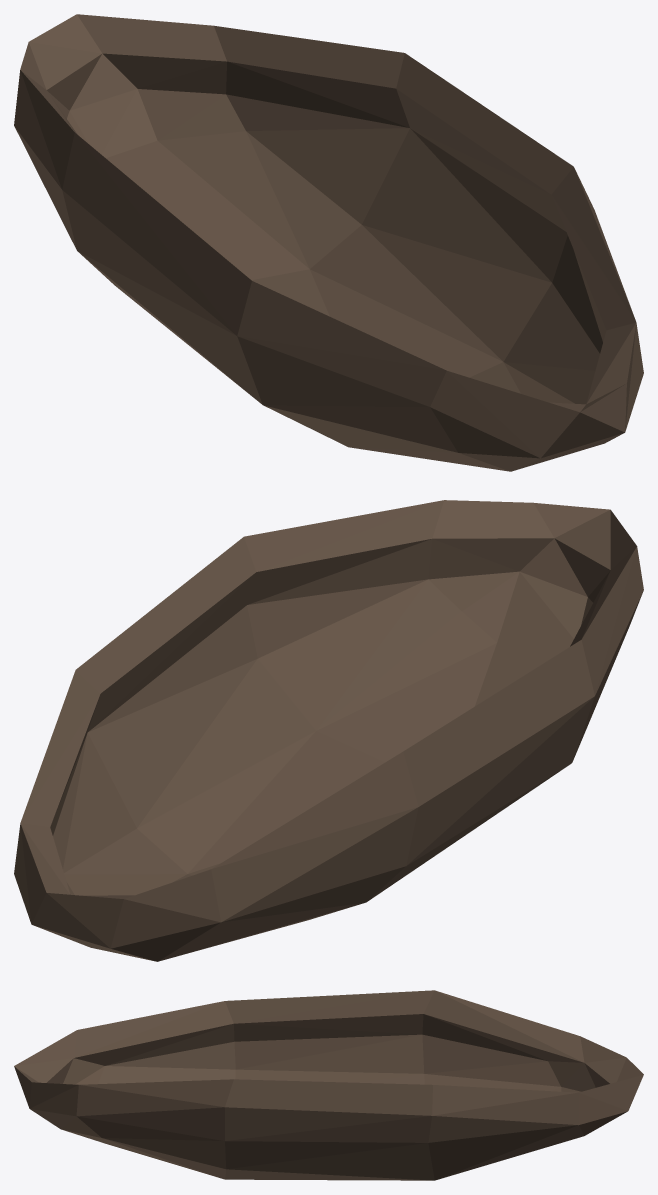
File: coolamon.glb
The picture shows the model from 3 angles, top to bottom: view 1: azimuth 30°, elevation 25°; view 2: azimuth 150°, elevation 25°; view 3: azimuth 270°, elevation 25°; orthographic projection. The views are drawn at different scales.
Parts seen in each view (by area): view 1: Coolamon; view 2: Coolamon; view 3: Coolamon.
Part boxes in pixels (x1=…): Coolamon: x1=14, y1=14, x2=643, y2=471; Coolamon: x1=14, y1=500, x2=643, y2=961; Coolamon: x1=14, y1=990, x2=643, y2=1180.
Bounding box in the file's own units: 2.74 × 1.7 × 7.08.
